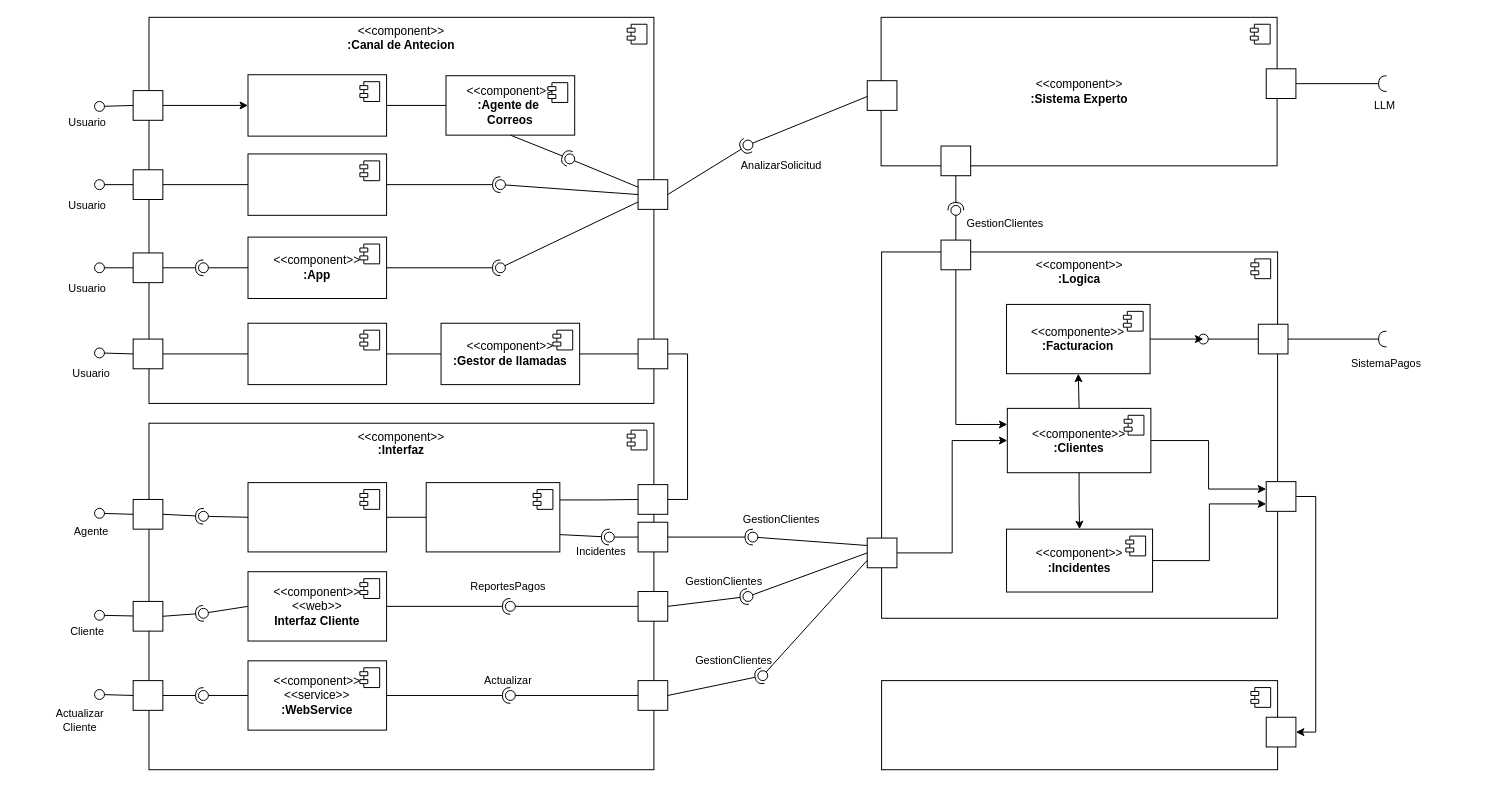
The diagram is 1507 pixels wide and 787 high, and some of its shapes have lost their labels. The centre of each missing label's shape, as x and y in pixels:
<<component>> : Correo Electronico: [317,105]
<<component>> : Llamada Telefonica: [317,353]
<<component>> :Motor 360: [492,517]
<<component>> <<web>> : ChatBot: [317,184]
<<component>> <<web>> Interfaz de Agente: [317,517]
<<repositorio>> :Base de Datos: [1079,725]
